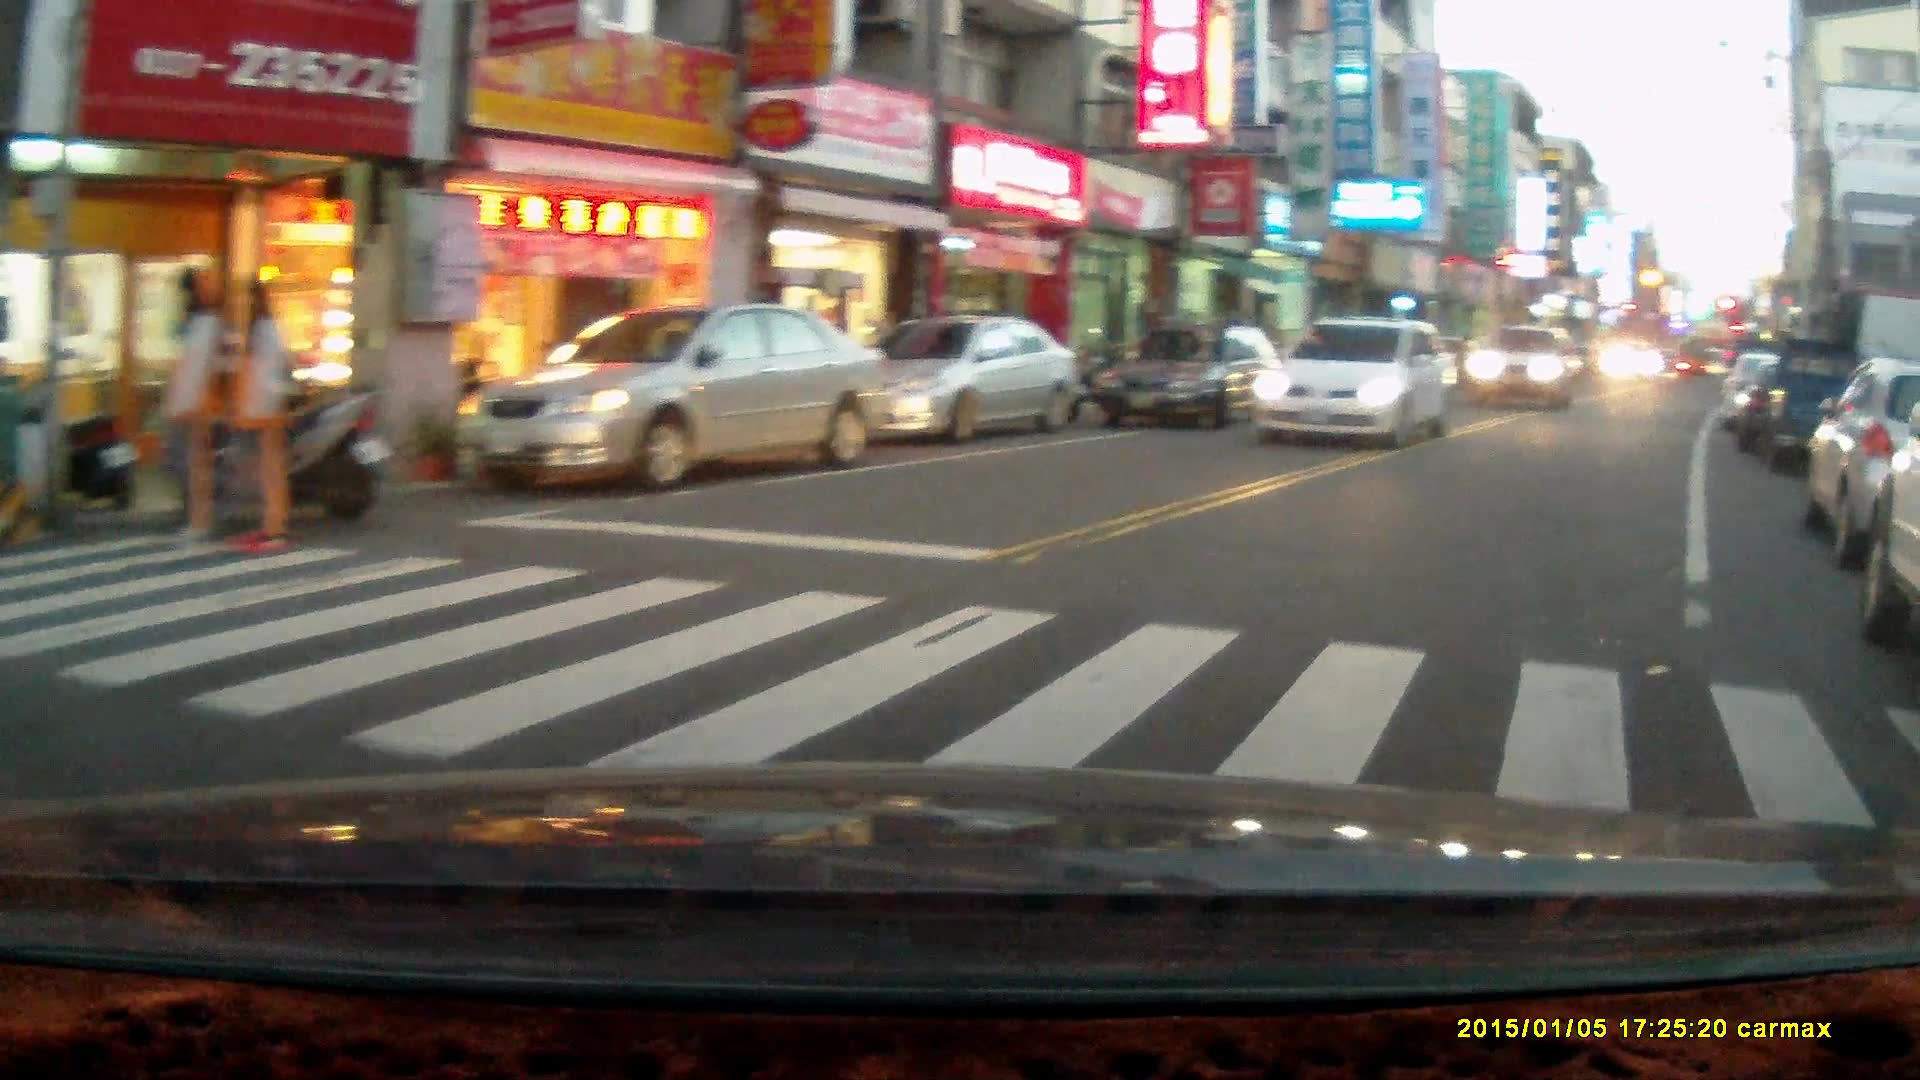pedestrian: (190, 276, 319, 560), (150, 268, 233, 552)
vehicle: (453, 299, 892, 492), (822, 315, 1079, 440), (1250, 312, 1463, 453), (1800, 354, 1920, 568), (1740, 335, 1898, 480), (1099, 325, 1292, 435), (1454, 324, 1587, 413), (1599, 338, 1660, 390)
